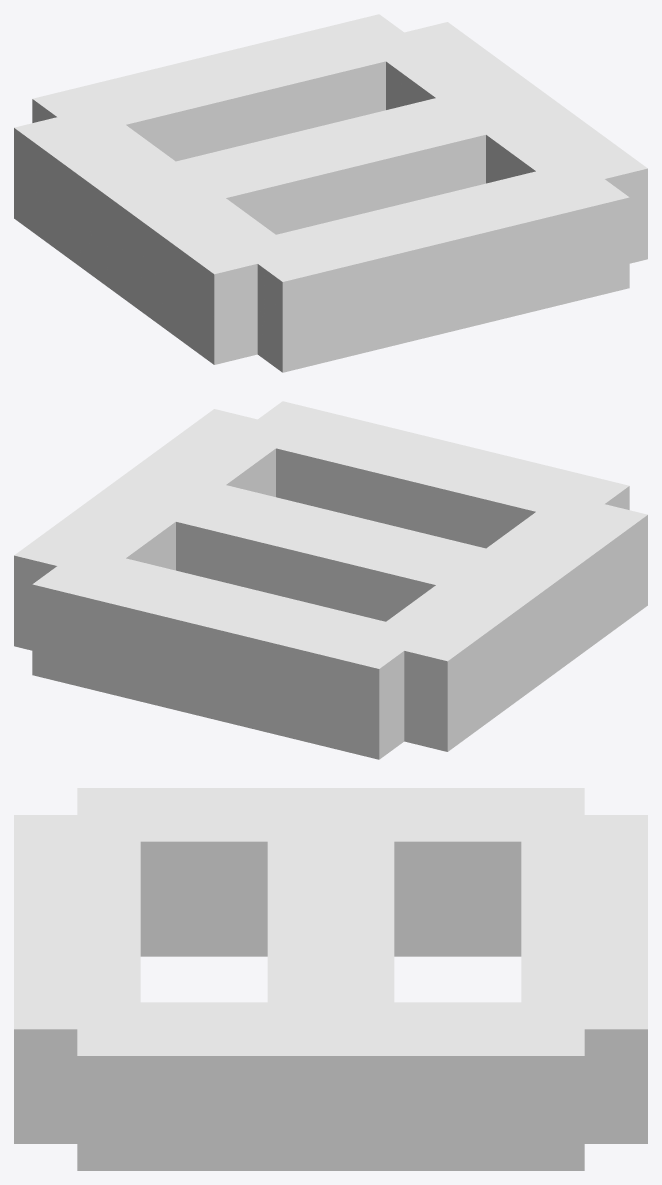
File: tile_link_one.obj
3 views of the same model, one above another, from view 1: azimuth 30°, elevation 25°; view 2: azimuth 150°, elevation 25°; view 3: azimuth 270°, elevation 25° (orthographic). The views are drawn at different scales.
Size of the model in its own units: 1 by 0.2 by 1.
1 material, 1 textured.
